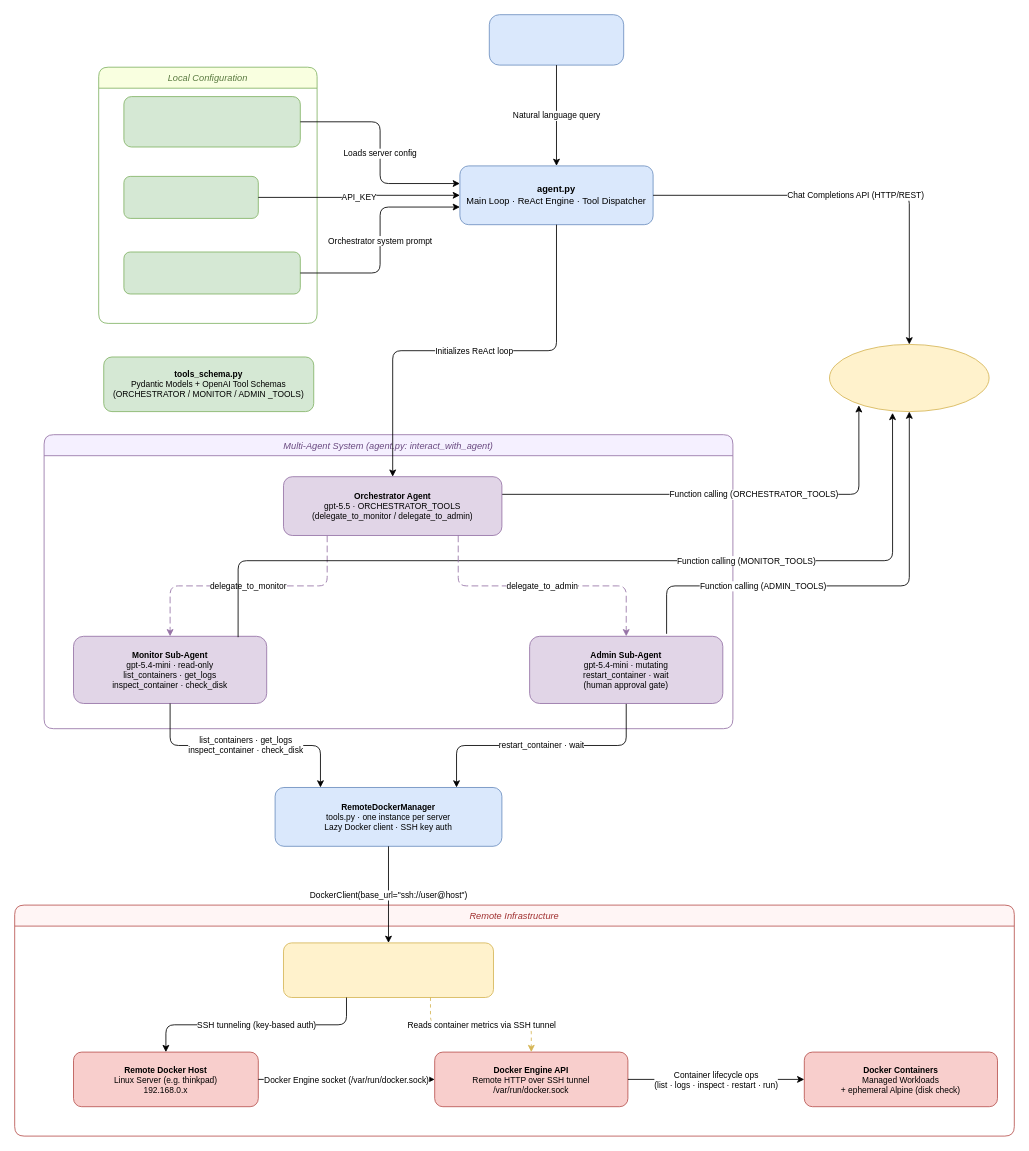
Some shapes in this 1029 by 1151 pixel diagram are drawn without their labels. Here are the shapes that lost their labels. From the top down, the centre of each, then its label:
(556,39): User (CLI)
(211,121): config.yaml Server Registry (name, host, username, key_filename)
(190,197): .env API_KEY (OpenAI)
(211,272): system_prompt.txt Orchestrator Instructions
(909,378): OpenAI API Chat Completions (tool_choice="auto")
(388,970): SSH Transport Paramiko via docker[ssh] use_ssh_client=True
